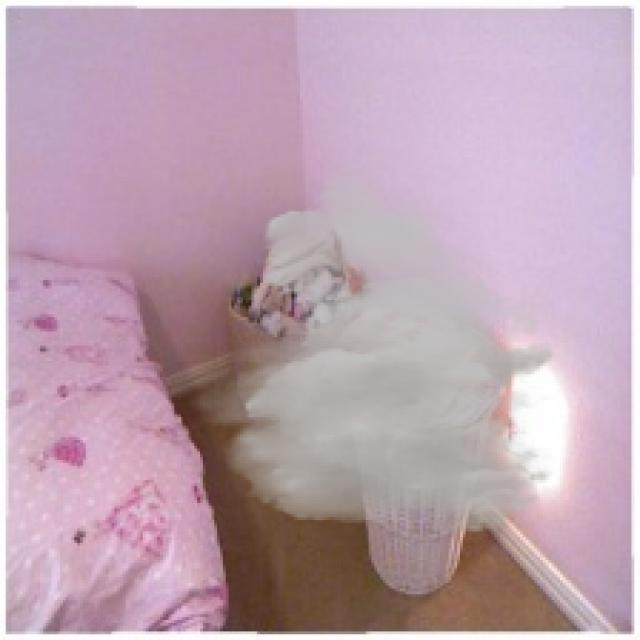Smoke: (182, 162, 558, 534)
